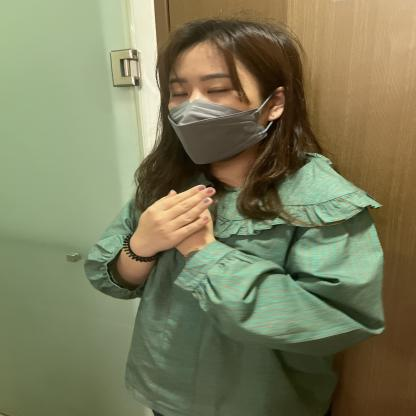Grieve: (83, 162, 341, 311)
